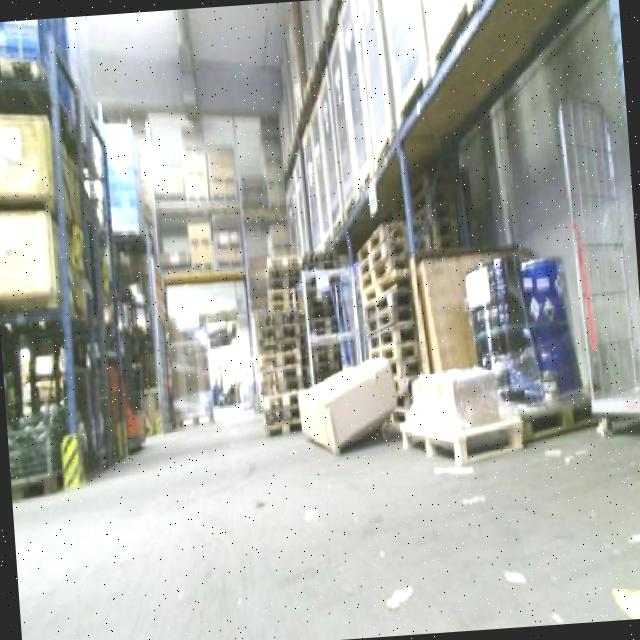pallet: (391, 413, 528, 470), (360, 304, 419, 339), (247, 343, 305, 372), (250, 315, 303, 346)
